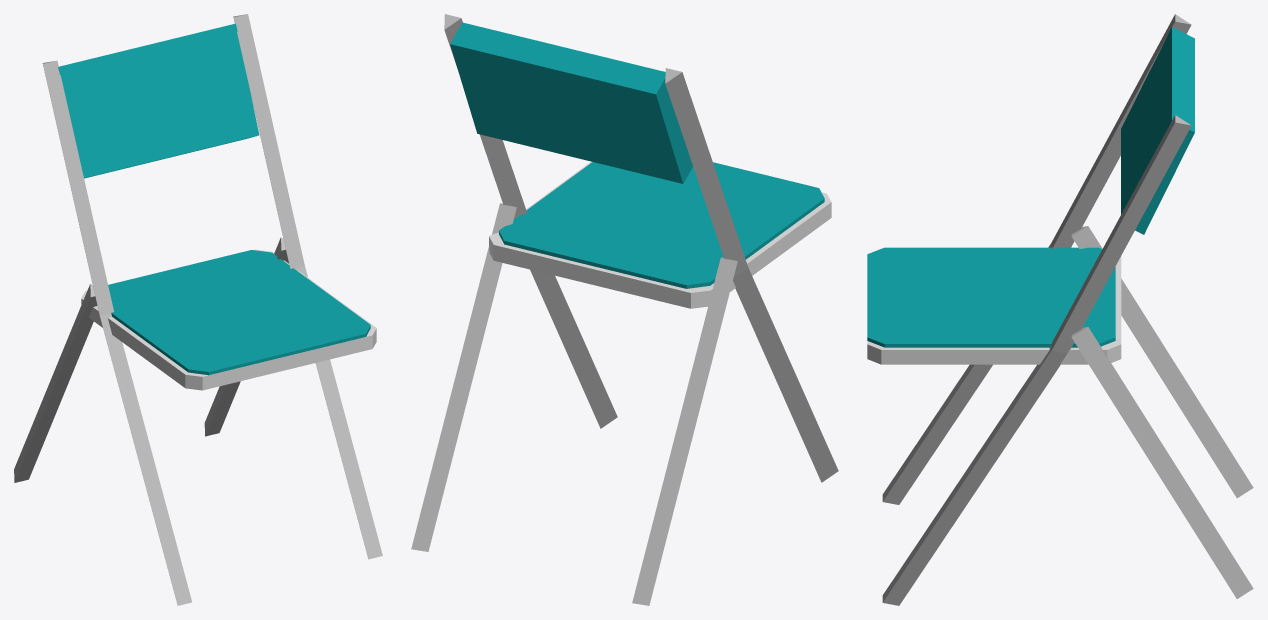
The model's file is chaire.fbx.
3 views of the same model, side by side, from view 1: azimuth 30°, elevation 25°; view 2: azimuth 150°, elevation 25°; view 3: azimuth 270°, elevation 25° (orthographic). The views are drawn at different scales.
Parts seen in each view (by area): view 1: 立方体.001, 立方体, 円柱, 立方体.002; view 2: 円柱, 立方体, 立方体.001, 立方体.002; view 3: 円柱, 立方体, 立方体.001, 立方体.002.
Boxes of the visible parts, left/top/right/bottom form: 立方体.001: left=58, top=23, right=259, bottom=178; 立方体: left=108, top=250, right=370, bottom=375; 円柱: left=14, top=14, right=382, bottom=605; 立方体.002: left=81, top=249, right=376, bottom=390; 円柱: left=411, top=14, right=838, bottom=605; 立方体: left=499, top=162, right=824, bottom=288; 立方体.001: left=450, top=22, right=692, bottom=183; 立方体.002: left=489, top=161, right=831, bottom=308; 円柱: left=882, top=14, right=1253, bottom=605; 立方体: left=867, top=247, right=1115, bottom=347; 立方体.001: left=1121, top=27, right=1194, bottom=234; 立方体.002: left=867, top=256, right=1121, bottom=364.
Bounding box in the file's own units: 89.3 × 187 × 134.
1 material, 1 textured.
